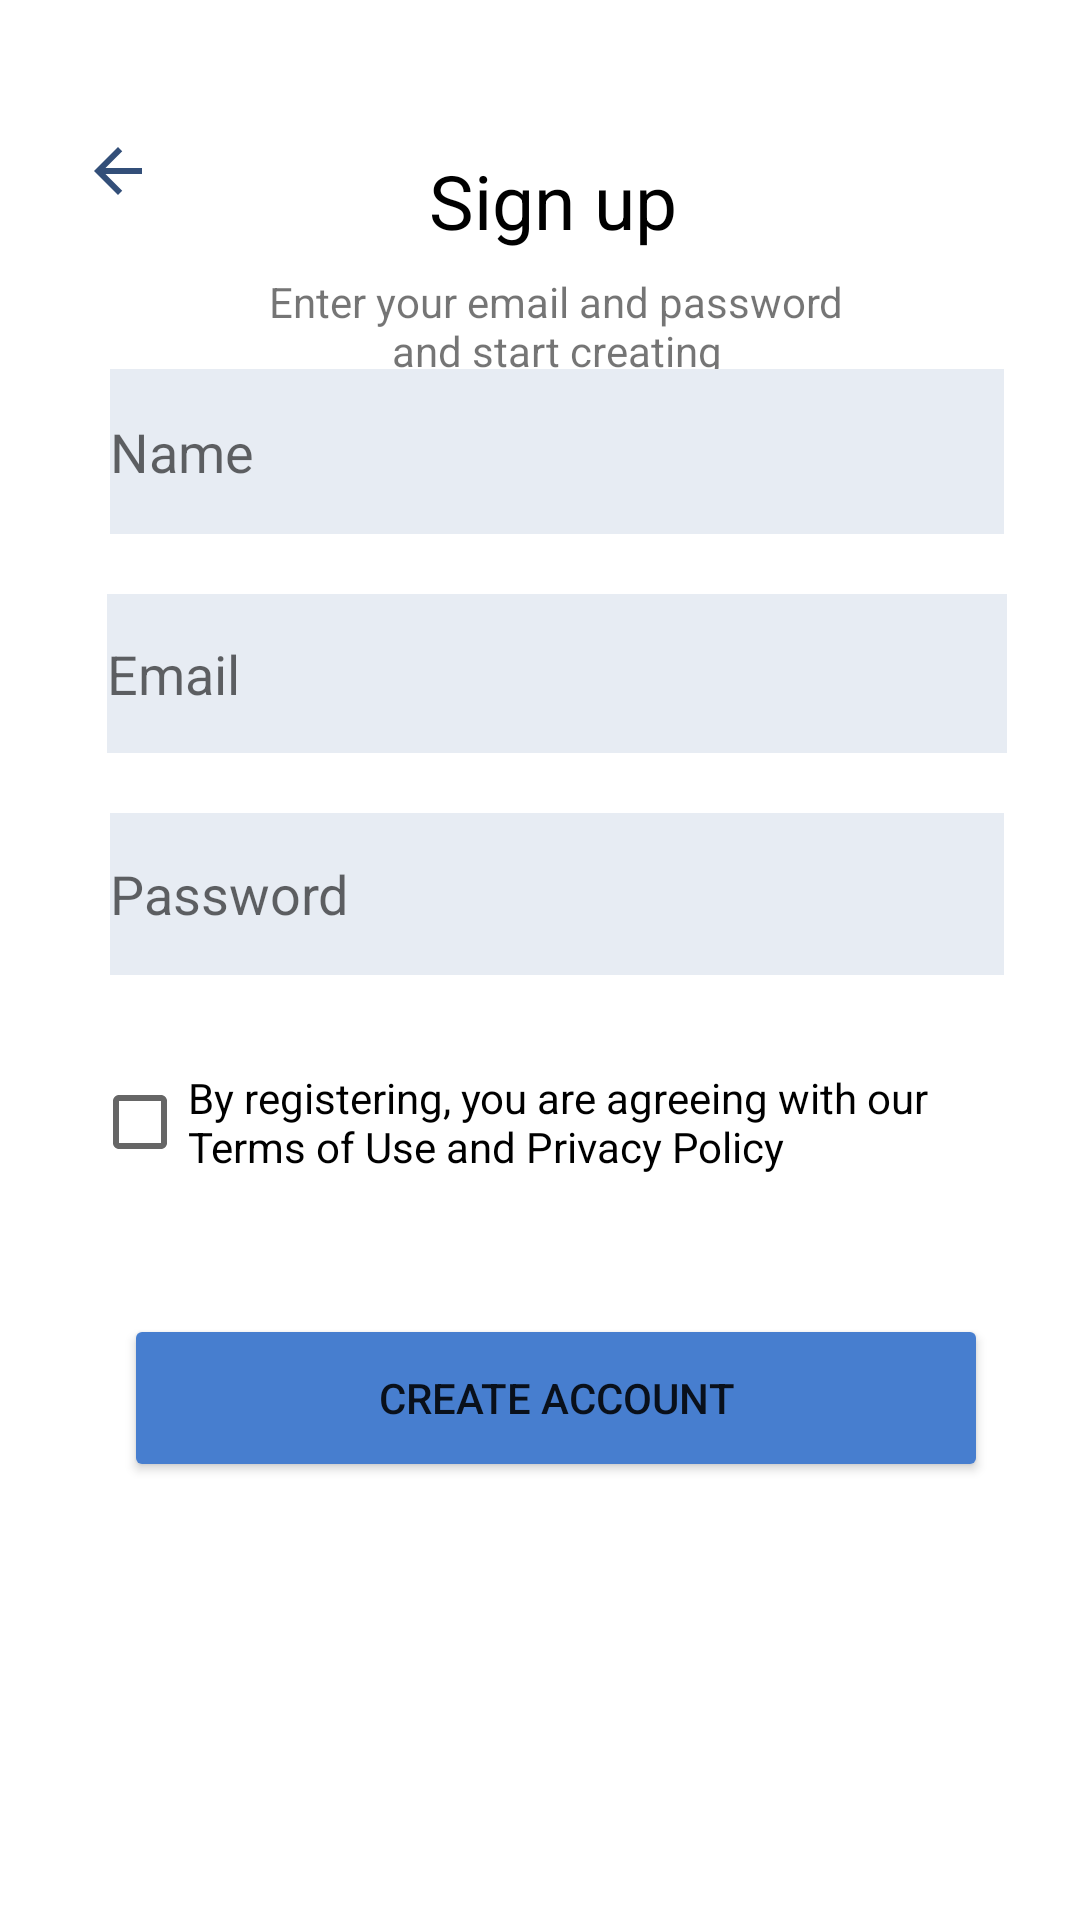

Icon bounding boxes for this 1080px×1920px phone screenshot, format (x1, y1, x2, y2):
back: (94, 147, 142, 195)
